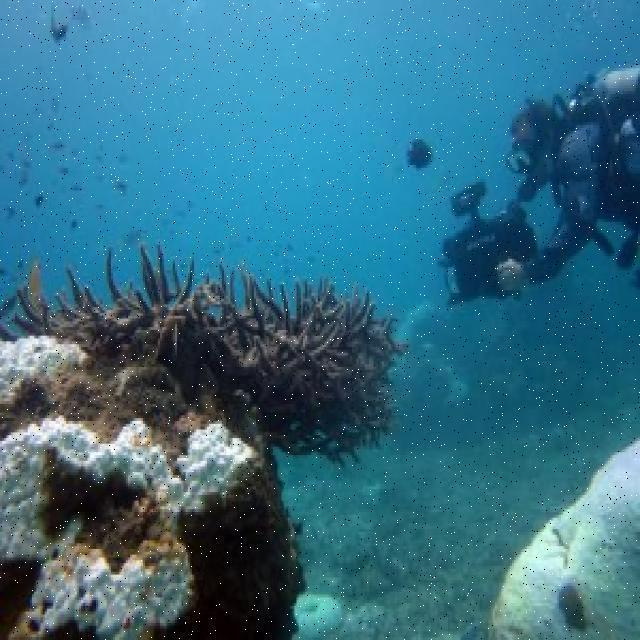Bleached: (1, 411, 257, 556), (37, 551, 195, 640), (1, 328, 86, 402)
Healthy: (88, 248, 403, 421), (192, 505, 298, 640), (49, 471, 175, 559), (13, 378, 249, 418), (2, 259, 91, 334)
